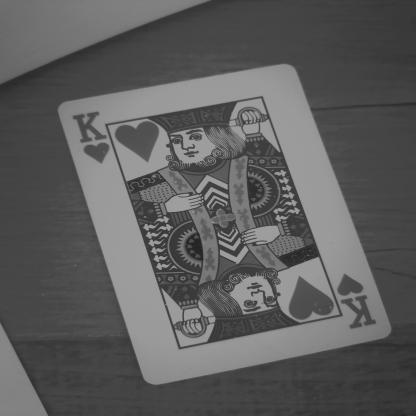KH: (316, 260, 392, 336), (66, 105, 114, 167)
